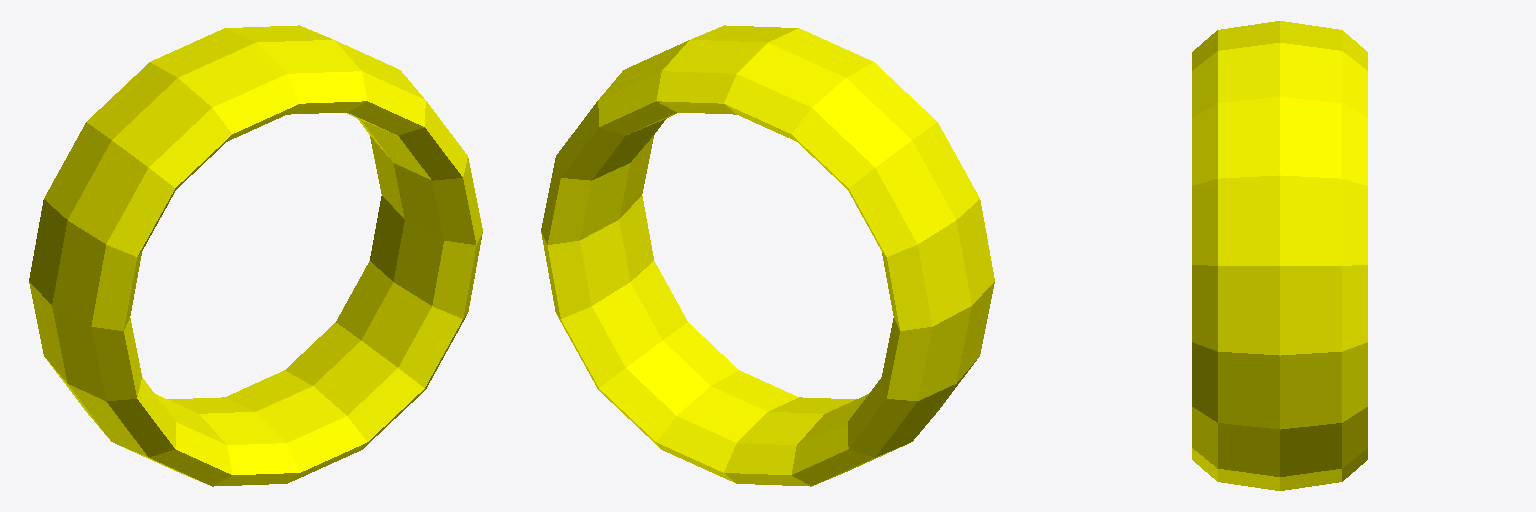
The picture shows the model from 3 angles: view 1: azimuth 30°, elevation 25°; view 2: azimuth 150°, elevation 25°; view 3: azimuth 270°, elevation 25°; orthographic projection.
Parts seen in each view (by area): view 1: Torus; view 2: Torus; view 3: Torus.
Boxes of the visible parts, <box> form: Torus: <box>29,25,482,486</box>; Torus: <box>541,25,994,486</box>; Torus: <box>1192,21,1367,490</box>.
Bounding box in the file's own units: 4 × 4 × 1.5.
Materials: 1 (1 with a texture image).